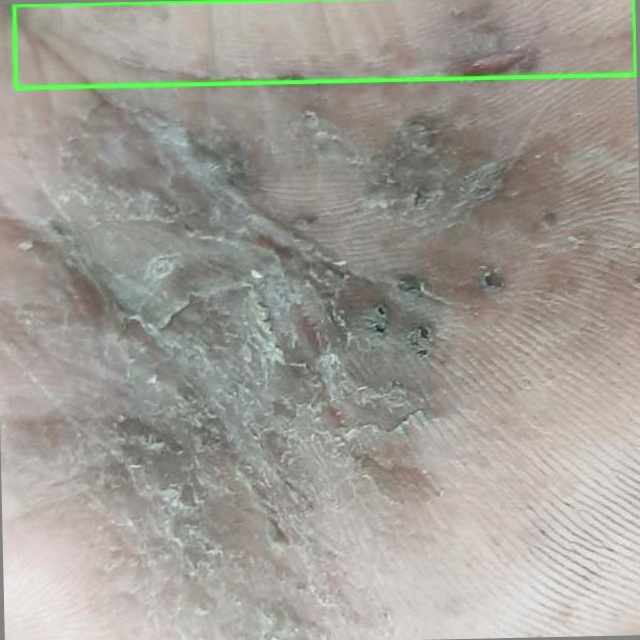Eczema: (14, 0, 636, 88)
